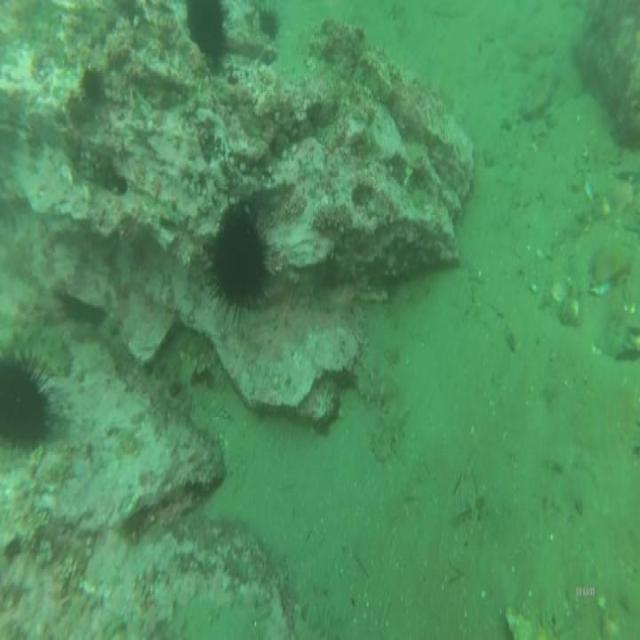echinus: (203, 198, 277, 326), (0, 346, 65, 449), (182, 1, 233, 76), (252, 2, 284, 44)
holothurian: (169, 326, 228, 406), (368, 386, 415, 466), (352, 356, 405, 414)
